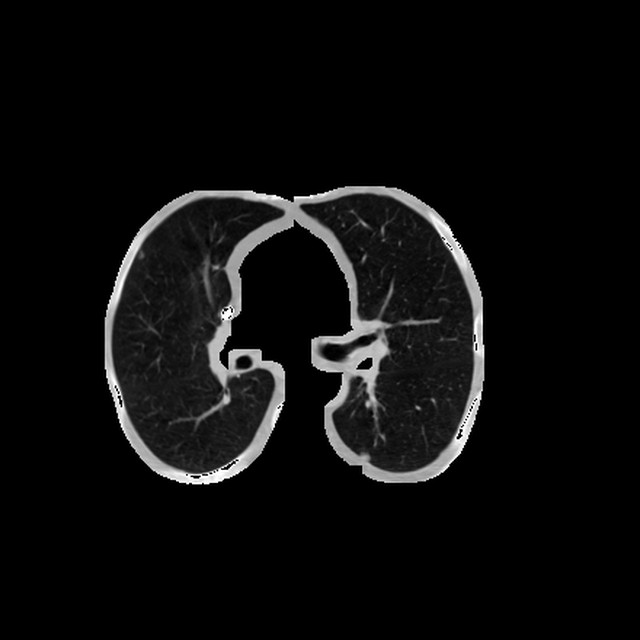PN: (358, 451, 369, 463)
